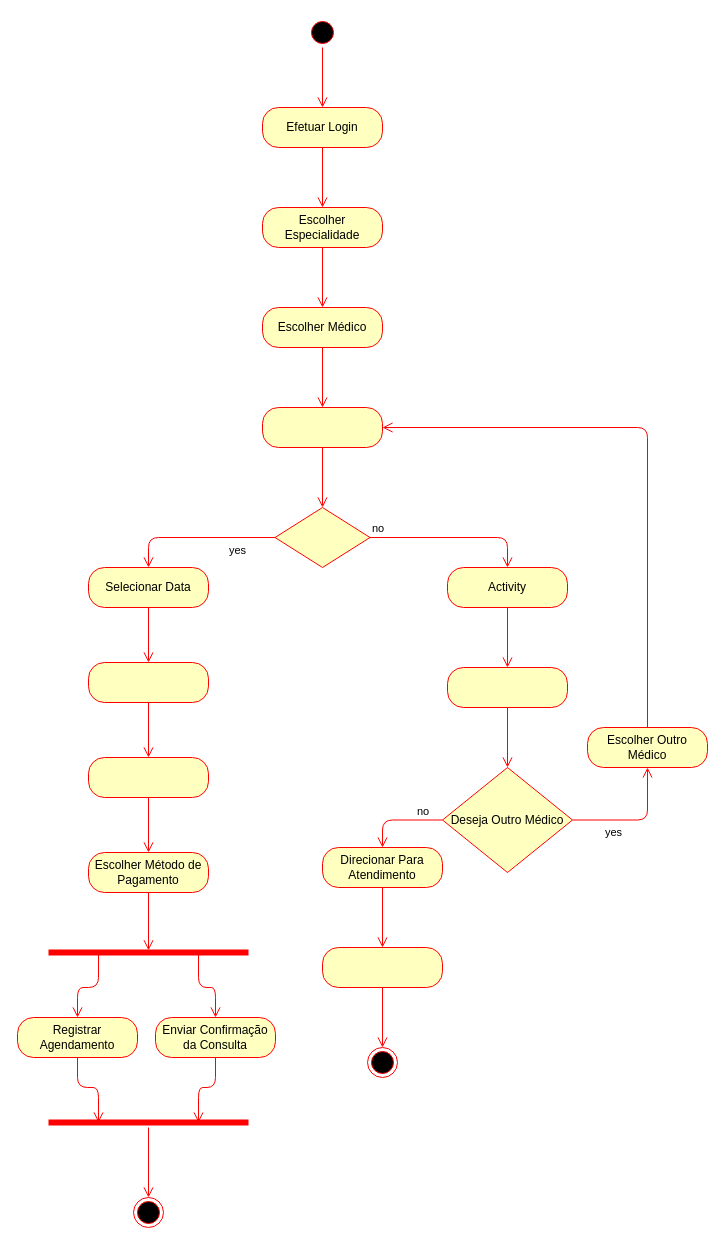
Image size: 725x1245. Some labels were removed from this diagram. The box of each missing label's shape, as (x1, y1, x2, y2) in pixels:
Confirmar Agendamento: (88, 756, 208, 798)
Horário Disponível: (274, 506, 370, 568)
Oferecer Outro Médico: (446, 666, 568, 708)
Selecionar Horário: (88, 662, 208, 702)
Solicitar Auxílio: (322, 946, 442, 988)
Verificar Disponibilidade: (262, 406, 382, 448)
